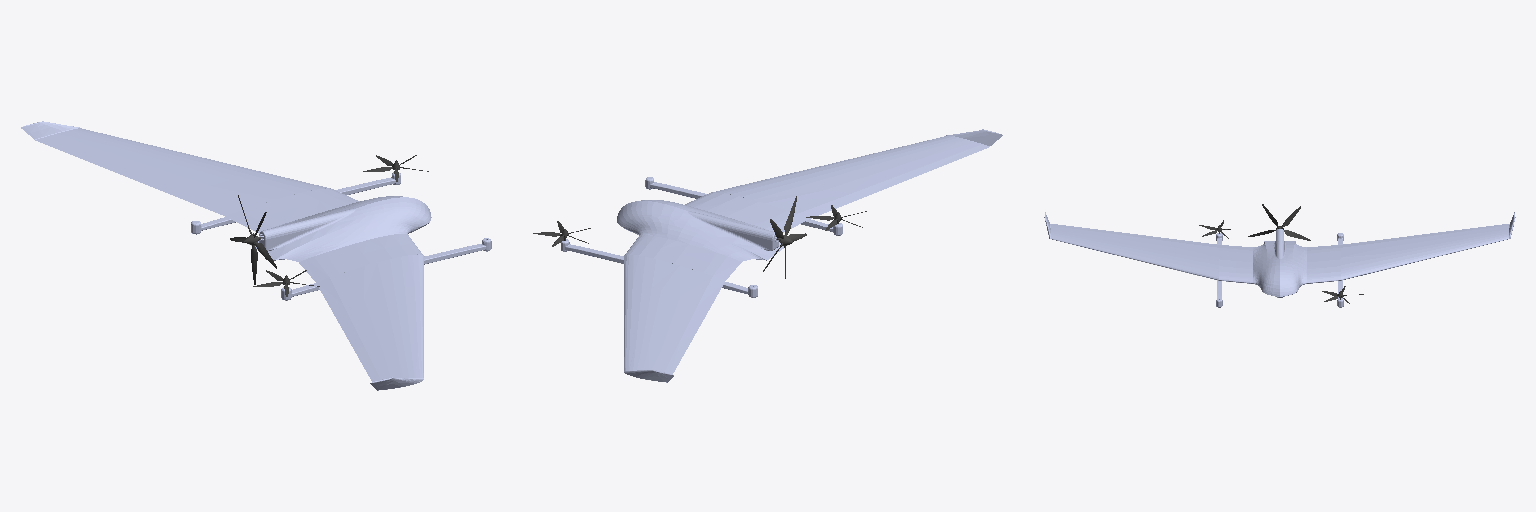
URDF robot description (vtol_aircraft):
<?xml version="1.0" encoding="utf-8"?>
<!-- This URDF was automatically created by SolidWorks to URDF Exporter! Originally created by [author] ([email redacted]) 
     Commit Version: 1.6.0-1-g15f4949  Build Version: 1.6.7594.29634
     For more information, please see http://wiki.ros.org/sw_urdf_exporter -->
<robot
  name="vtol_aircraft">
  <link
    name="base_link">
    <inertial>
      <origin
        xyz="0.000101417109180213 2.92403768656357E-06 -5.94403594148668E-05"
        rpy="0 0 0" />
      <mass
        value="35.6989229289987" />
      <inertia
        ixx="1.58037306093807"
        ixy="0.00018991868392197"
        ixz="-0.0147015600966159"
        iyy="0.886477088556763"
        iyz="-2.45390483723087E-05"
        izz="2.44020919596226" />
    </inertial>
    <visual>
      <origin
        xyz="0 0 0"
        rpy="0 0 0" />
      <geometry>
        <mesh
          filename="package://vtol_aircraft/meshes/base_link.STL" />
      </geometry>
      <material
        name="">
        <color
          rgba="0.792156862745098 0.819607843137255 0.933333333333333 1" />
      </material>
    </visual>
    <collision>
      <origin
        xyz="0 0 0"
        rpy="0 0 0" />
      <geometry>
        <mesh
          filename="package://vtol_aircraft/meshes/base_link.STL" />
      </geometry>
    </collision>
  </link>
  <link
    name="front_right">
    <inertial>
      <origin
        xyz="2.64598465493648E-06 -3.99375828796789E-07 -0.0504285324100329"
        rpy="0 0 0" />
      <mass
        value="0.0187574695550542" />
      <inertia
        ixx="7.39722665886931E-06"
        ixy="-1.73425337631669E-10"
        ixz="2.36221474479102E-11"
        iyy="7.3971911646716E-06"
        iyz="1.70941933977132E-10"
        izz="1.8385715807412E-06" />
    </inertial>
    <visual>
      <origin
        xyz="0 0 0"
        rpy="0 0 0" />
      <geometry>
        <mesh
          filename="package://vtol_aircraft/meshes/front_right.STL" />
      </geometry>
      <material
        name="">
        <color
          rgba="0.298039215686275 0.298039215686275 0.298039215686275 1" />
      </material>
    </visual>
    <collision>
      <origin
        xyz="0 0 0"
        rpy="0 0 0" />
      <geometry>
        <mesh
          filename="package://vtol_aircraft/meshes/front_right.STL" />
      </geometry>
    </collision>
  </link>
  <joint
    name="front_right_joint"
    type="revolute">
    <origin
      xyz="0.51141 -0.34006 0.056098"
      rpy="0 0 0" />
    <parent
      link="base_link" />
    <child
      link="front_right" />
    <axis
      xyz="0 0 1" />
    <limit
      lower="0"
      upper="0"
      effort="0"
      velocity="0" />
  </joint>
  <link
    name="front_left">
    <inertial>
      <origin
        xyz="2.72114030686055E-06 -3.38746347333663E-07 -0.0504283291780782"
        rpy="0 0 0" />
      <mass
        value="0.0187575948098208" />
      <inertia
        ixx="7.39723367675602E-06"
        ixy="-1.67327554118017E-10"
        ixz="3.24442012336623E-11"
        iyy="7.39719614628775E-06"
        iyz="1.77657158778485E-10"
        izz="1.83858380153994E-06" />
    </inertial>
    <visual>
      <origin
        xyz="0 0 0"
        rpy="0 0 0" />
      <geometry>
        <mesh
          filename="package://vtol_aircraft/meshes/front_left.STL" />
      </geometry>
      <material
        name="">
        <color
          rgba="0.298039215686275 0.298039215686275 0.298039215686275 1" />
      </material>
    </visual>
    <collision>
      <origin
        xyz="0 0 0"
        rpy="0 0 0" />
      <geometry>
        <mesh
          filename="package://vtol_aircraft/meshes/front_left.STL" />
      </geometry>
    </collision>
  </link>
  <joint
    name="front_left_joint"
    type="revolute">
    <origin
      xyz="0.51141 0.33994 0.056098"
      rpy="0 0 0" />
    <parent
      link="base_link" />
    <child
      link="front_left" />
    <axis
      xyz="0 0 1" />
    <limit
      lower="0"
      upper="0"
      effort="0"
      velocity="0" />
  </joint>
  <link
    name="back_left">
    <inertial>
      <origin
        xyz="2.73366731989855E-06 -2.98407245941101E-07 -0.0504287229117256"
        rpy="0 0 0" />
      <mass
        value="0.0187573399036794" />
      <inertia
        ixx="7.39721561747263E-06"
        ixy="-1.79042618576633E-10"
        ixz="3.33710231372493E-11"
        iyy="7.39717732236906E-06"
        iyz="1.82044997592418E-10"
        izz="1.83855795813629E-06" />
    </inertial>
    <visual>
      <origin
        xyz="0 0 0"
        rpy="0 0 0" />
      <geometry>
        <mesh
          filename="package://vtol_aircraft/meshes/back_left.STL" />
      </geometry>
      <material
        name="">
        <color
          rgba="0.298039215686275 0.298039215686275 0.298039215686275 1" />
      </material>
    </visual>
    <collision>
      <origin
        xyz="0 0 0"
        rpy="0 0 0" />
      <geometry>
        <mesh
          filename="package://vtol_aircraft/meshes/back_left.STL" />
      </geometry>
    </collision>
  </link>
  <joint
    name="back_left_joint"
    type="revolute">
    <origin
      xyz="-0.35909 0.33994 0.056098"
      rpy="0 0 0" />
    <parent
      link="base_link" />
    <child
      link="back_left" />
    <axis
      xyz="0 0 1" />
    <limit
      lower="0"
      upper="0"
      effort="0"
      velocity="0" />
  </joint>
  <link
    name="back_right">
    <inertial>
      <origin
        xyz="2.65936021620616E-06 -3.53064077807108E-07 -0.0504285035042423"
        rpy="0 0 0" />
      <mass
        value="0.0187574837275127" />
      <inertia
        ixx="7.39723178486097E-06"
        ixy="-1.64115784399998E-10"
        ixz="2.72814953024875E-11"
        iyy="7.39718206991237E-06"
        iyz="1.76020653214969E-10"
        izz="1.83857132161055E-06" />
    </inertial>
    <visual>
      <origin
        xyz="0 0 0"
        rpy="0 0 0" />
      <geometry>
        <mesh
          filename="package://vtol_aircraft/meshes/back_right.STL" />
      </geometry>
      <material
        name="">
        <color
          rgba="0.298039215686275 0.298039215686275 0.298039215686275 1" />
      </material>
    </visual>
    <collision>
      <origin
        xyz="0 0 0"
        rpy="0 0 0" />
      <geometry>
        <mesh
          filename="package://vtol_aircraft/meshes/back_right.STL" />
      </geometry>
    </collision>
  </link>
  <joint
    name="back_right_joint"
    type="revolute">
    <origin
      xyz="-0.35909 -0.34006 0.056098"
      rpy="0 0 0" />
    <parent
      link="base_link" />
    <child
      link="back_right" />
    <axis
      xyz="0 0 1" />
    <limit
      lower="0"
      upper="0"
      effort="0"
      velocity="0" />
  </joint>
  <link
    name="center_prop">
    <inertial>
      <origin
        xyz="0.0495416463444759 1.62634631162284E-06 -1.07668735412937E-06"
        rpy="0 0 0" />
      <mass
        value="0.0313019983403624" />
      <inertia
        ixx="3.17041966044438E-06"
        ixy="-2.43277443703949E-10"
        ixz="4.32649409400615E-10"
        iyy="1.87580819260692E-05"
        iyz="-3.84418715738829E-10"
        izz="1.8758525416591E-05" />
    </inertial>
    <visual>
      <origin
        xyz="0 0 0"
        rpy="0 0 0" />
      <geometry>
        <mesh
          filename="package://vtol_aircraft/meshes/center_prop.STL" />
      </geometry>
      <material
        name="">
        <color
          rgba="0.333333333333333 0.333333333333333 0.333333333333333 1" />
      </material>
    </visual>
    <collision>
      <origin
        xyz="0 0 0"
        rpy="0 0 0" />
      <geometry>
        <mesh
          filename="package://vtol_aircraft/meshes/center_prop.STL" />
      </geometry>
    </collision>
  </link>
  <joint
    name="center_prop_joint"
    type="revolute">
    <origin
      xyz="-0.34799 -6.3757E-05 0.054213"
      rpy="0 0 0" />
    <parent
      link="base_link" />
    <child
      link="center_prop" />
    <axis
      xyz="-1 0 0" />
    <limit
      lower="0"
      upper="0"
      effort="0"
      velocity="0" />
  </joint>
</robot>

--- Facts derived from the render (not from the file) ---
Views: 3 orthographic renders of the robot side by side, from view 1: azimuth 30°, elevation 25°; view 2: azimuth 150°, elevation 25°; view 3: azimuth 270°, elevation 25°.
Robot: vtol_aircraft — 6 links, 5 joints (5 revolute); root link base_link; default pose: all joints at 0.
Visible links, largest first — view 1: base_link, center_prop; view 2: base_link, center_prop; view 3: base_link.
Boxes of the visible links, <box> form: base_link: <box>21,121,491,390</box>; center_prop: <box>230,195,276,284</box>; base_link: <box>561,129,1002,382</box>; center_prop: <box>763,196,806,278</box>; base_link: <box>1044,212,1515,307</box>.
Bounding box of the posed robot: 1.19 × 2.64 × 0.342 m (x, y, z).
Meshes: 6 distinct files referenced, 4 mesh visuals loaded (4 binary STL); not drawn: 2 (reference not matched to a file when rendering).